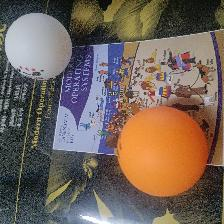WhiteBall: (5, 12, 72, 80)
YellowBall: (117, 105, 208, 196)
